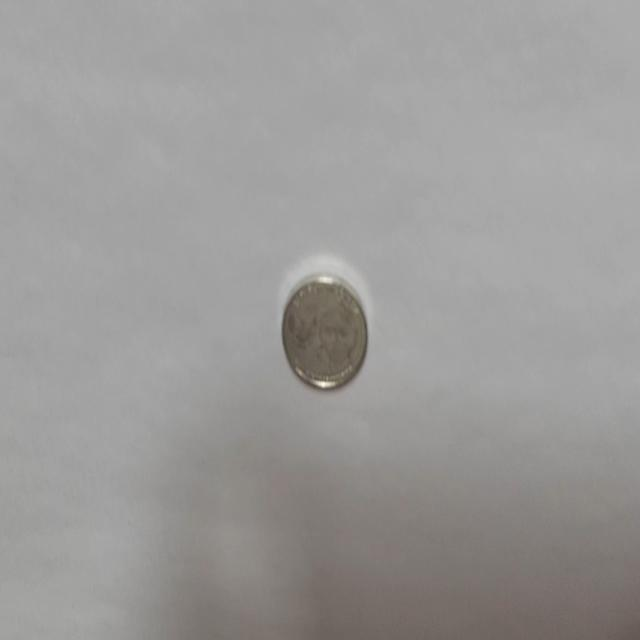dua ratus rupiah: (280, 270, 368, 391)
